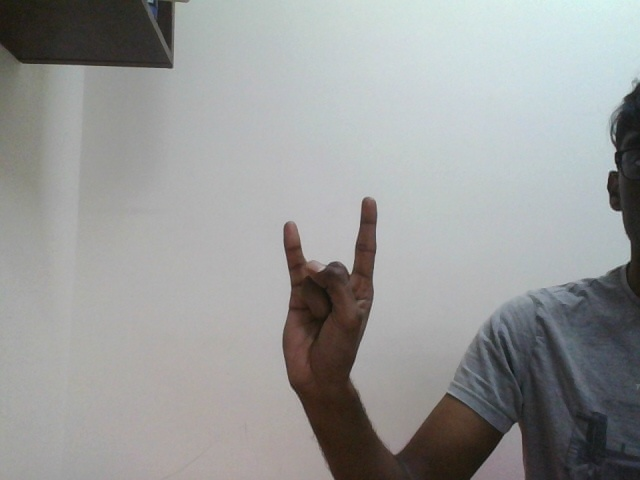I Love You: (283, 198, 378, 395)
